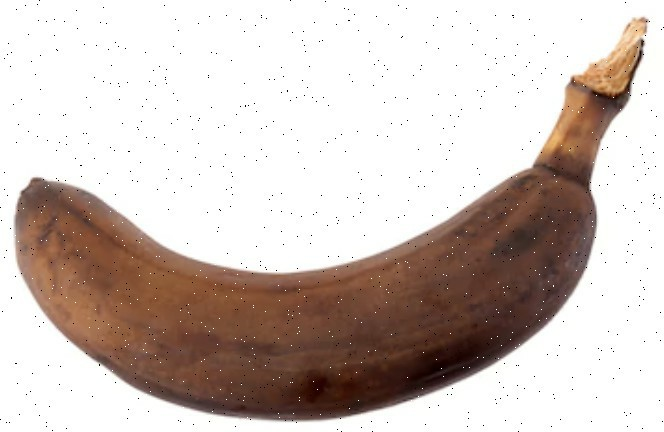rotten_banana: (21, 86, 624, 422)
